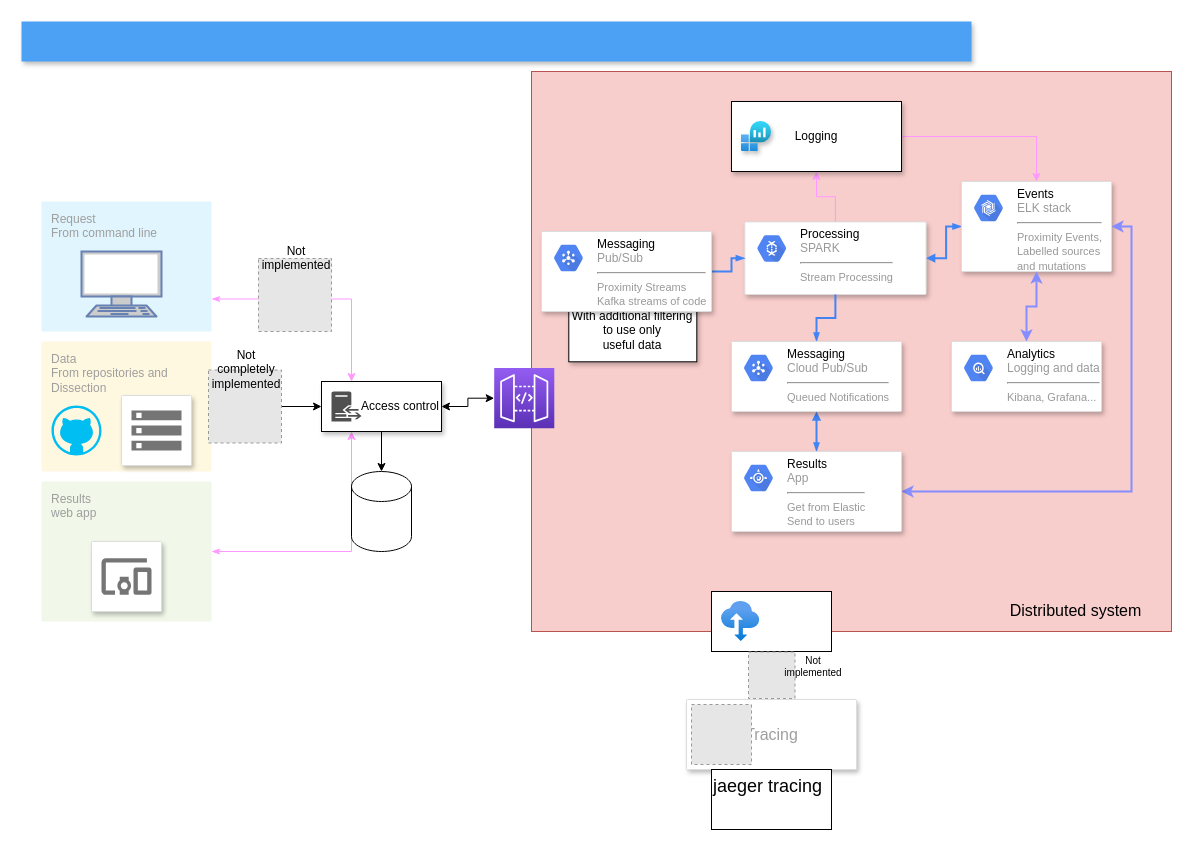
The diagram is 1189 pixels wide and 848 high, and some of its shapes have lost their labels. Grey dashed boxes stand in for pictures. Here are the shapes that lost their labels. From the top down, the centre of each, then its label:
[497,42]: Architecture: Entonomachia
[381,511]: database
